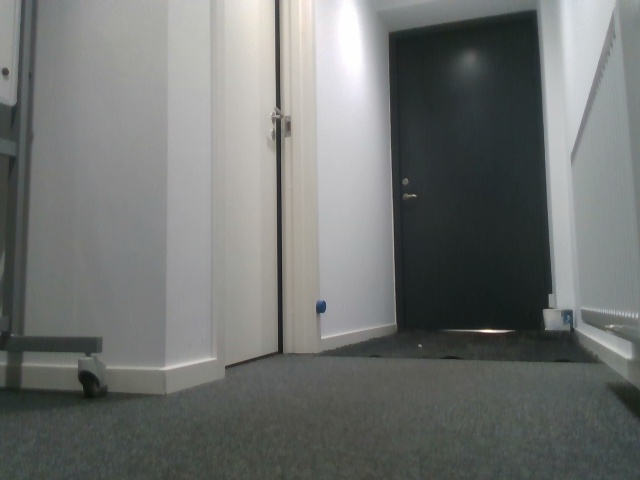alfa: (314, 297, 328, 314)
